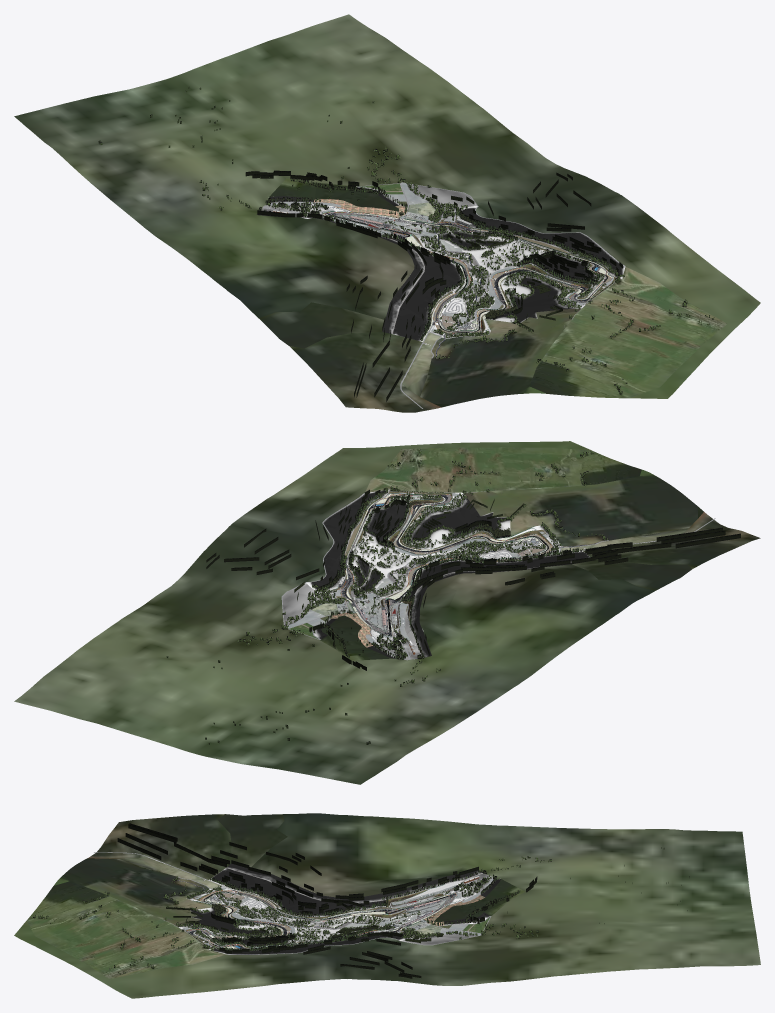
Rendered from spa.glb.
3 renders of one model, top to bottom at view 1: azimuth 30°, elevation 25°; view 2: azimuth 150°, elevation 25°; view 3: azimuth 270°, elevation 25°, orthographic. The views are drawn at different scales.
Parts seen in each view (by area): view 1: spa_2022; view 2: spa_2022; view 3: spa_2022.
Boxes of the visible parts, x1,y1,x2,y2 form: spa_2022: (14, 14, 760, 412); spa_2022: (14, 441, 760, 784); spa_2022: (14, 813, 760, 998).
Size of the model in its own units: 3222 by 198 by 5887.
82 materials, 78 textured.
